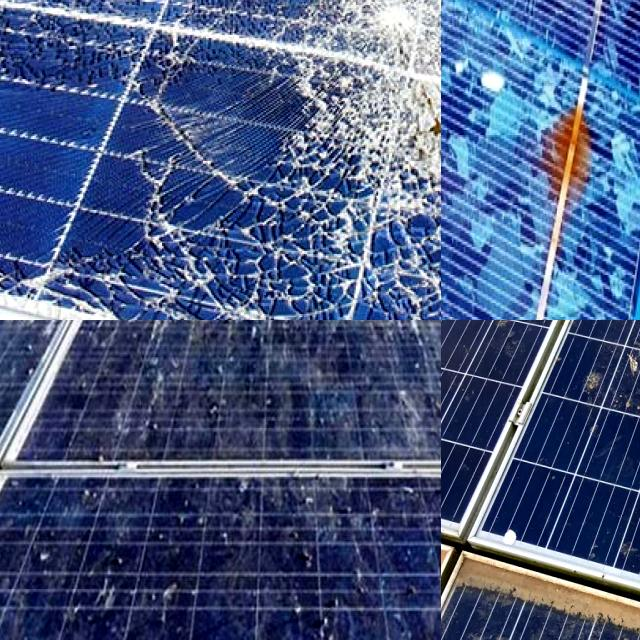bird: (294, 555, 365, 640), (567, 346, 640, 416), (150, 556, 212, 624), (84, 547, 132, 628), (116, 366, 172, 432), (218, 320, 325, 347), (388, 320, 441, 360), (19, 526, 52, 590), (269, 320, 336, 350), (132, 320, 173, 351)
hotspot: (187, 195, 401, 320), (63, 0, 289, 117), (313, 0, 441, 191), (142, 74, 286, 202), (0, 245, 214, 320)
shadow: (538, 99, 606, 208), (441, 173, 469, 320), (506, 289, 556, 320)
